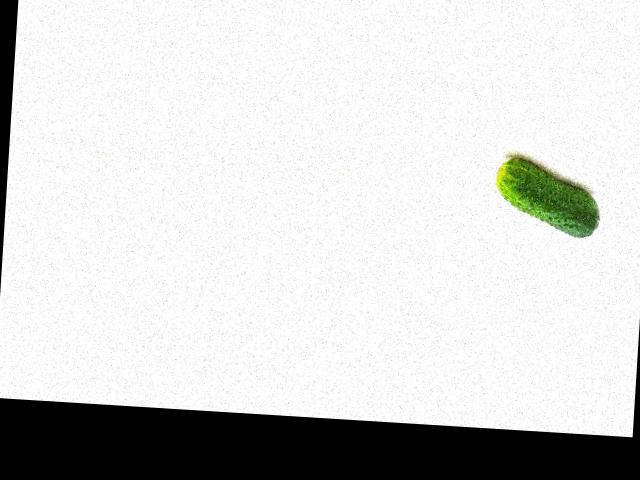cucumber: (492, 157, 602, 238)
